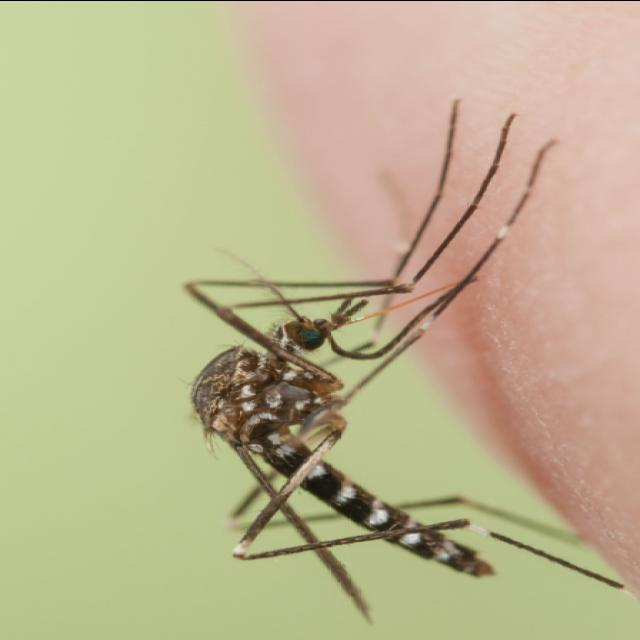Mosquito: (169, 118, 595, 626)
